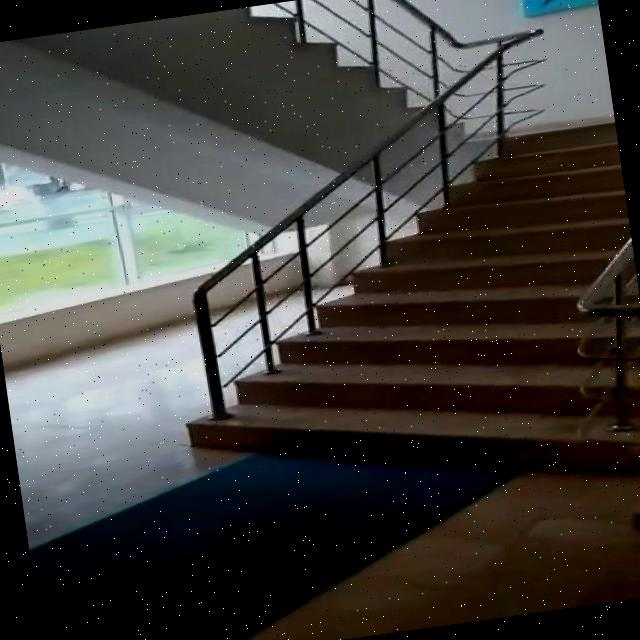stairs: (150, 119, 640, 533)
